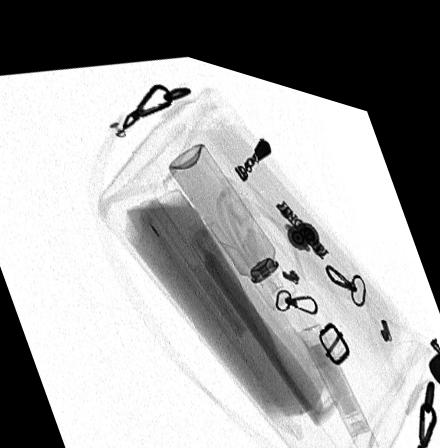Sprayer: (168, 133, 296, 294)
